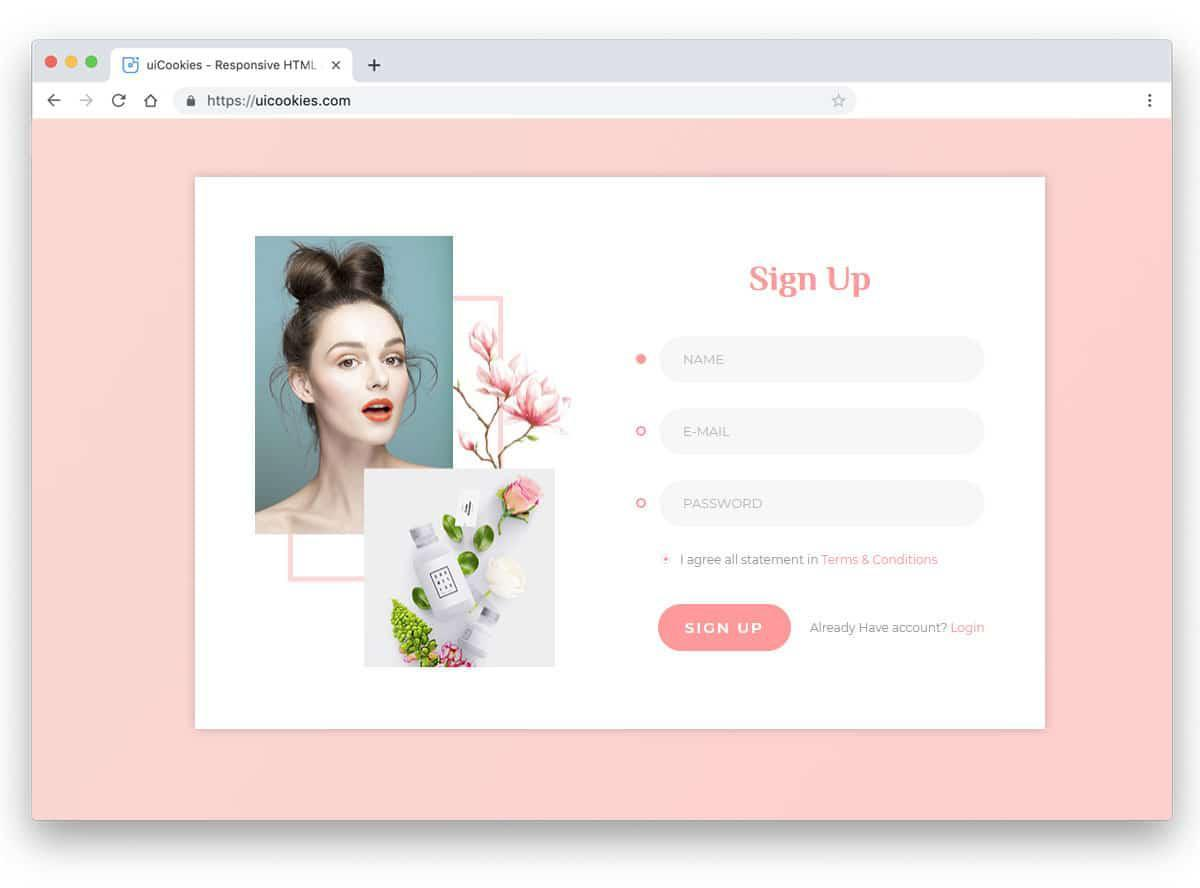button: (659, 605, 792, 652)
input: (660, 408, 985, 456), (660, 480, 984, 528), (662, 337, 986, 384)
label: (681, 553, 938, 569)
radio: (660, 553, 675, 569), (635, 352, 649, 366), (635, 424, 648, 438), (635, 497, 649, 510)
